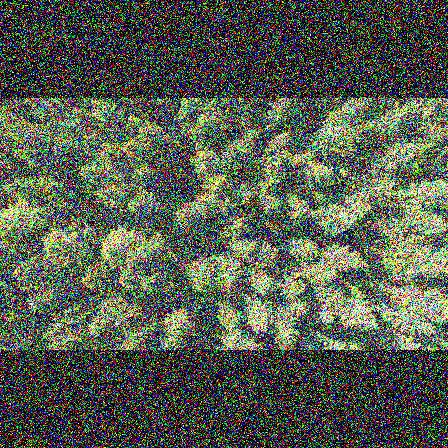Sick: (232, 178, 257, 206), (110, 311, 130, 333), (130, 164, 151, 182)
